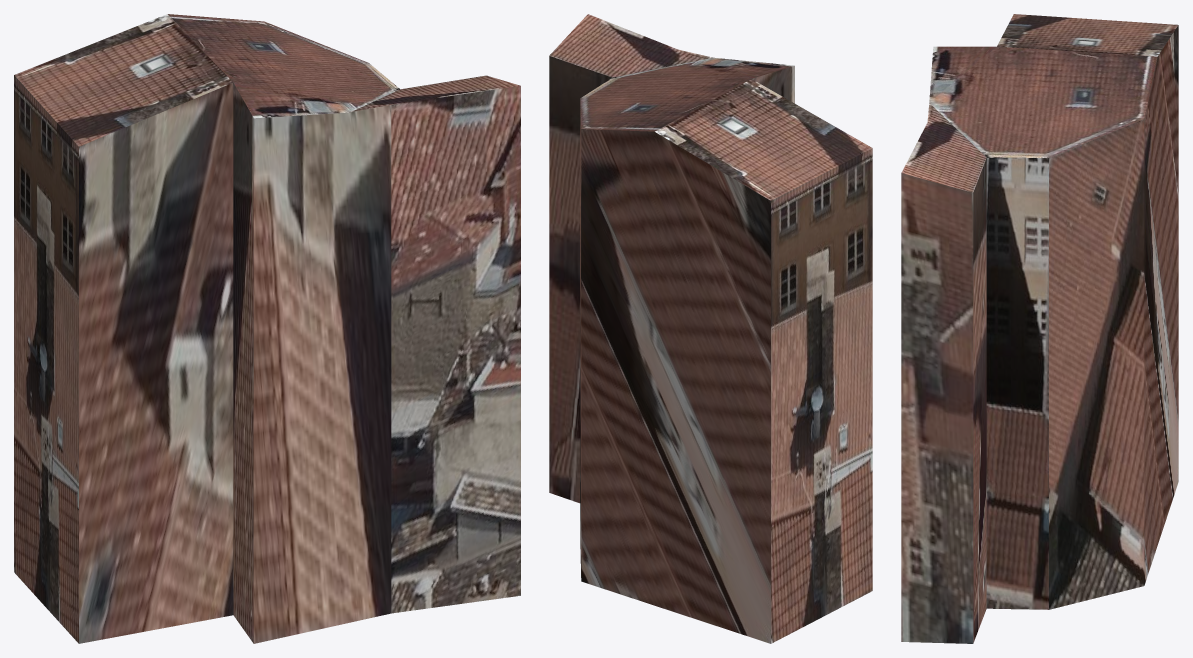
3 views of the same model, side by side, from view 1: azimuth 30°, elevation 25°; view 2: azimuth 150°, elevation 25°; view 3: azimuth 270°, elevation 25° (orthographic). The views are drawn at different scales.
Visible parts, largest first — view 1: Z_UP; view 2: Z_UP; view 3: Z_UP.
Part boxes in pixels (box(x1,y1,x2,y2)): Z_UP: box(14, 14, 520, 643); Z_UP: box(549, 14, 872, 643); Z_UP: box(901, 14, 1178, 643).
Size of the model in its own units: 17.19 by 22.7 by 11.64.
2 materials, 1 textured.
